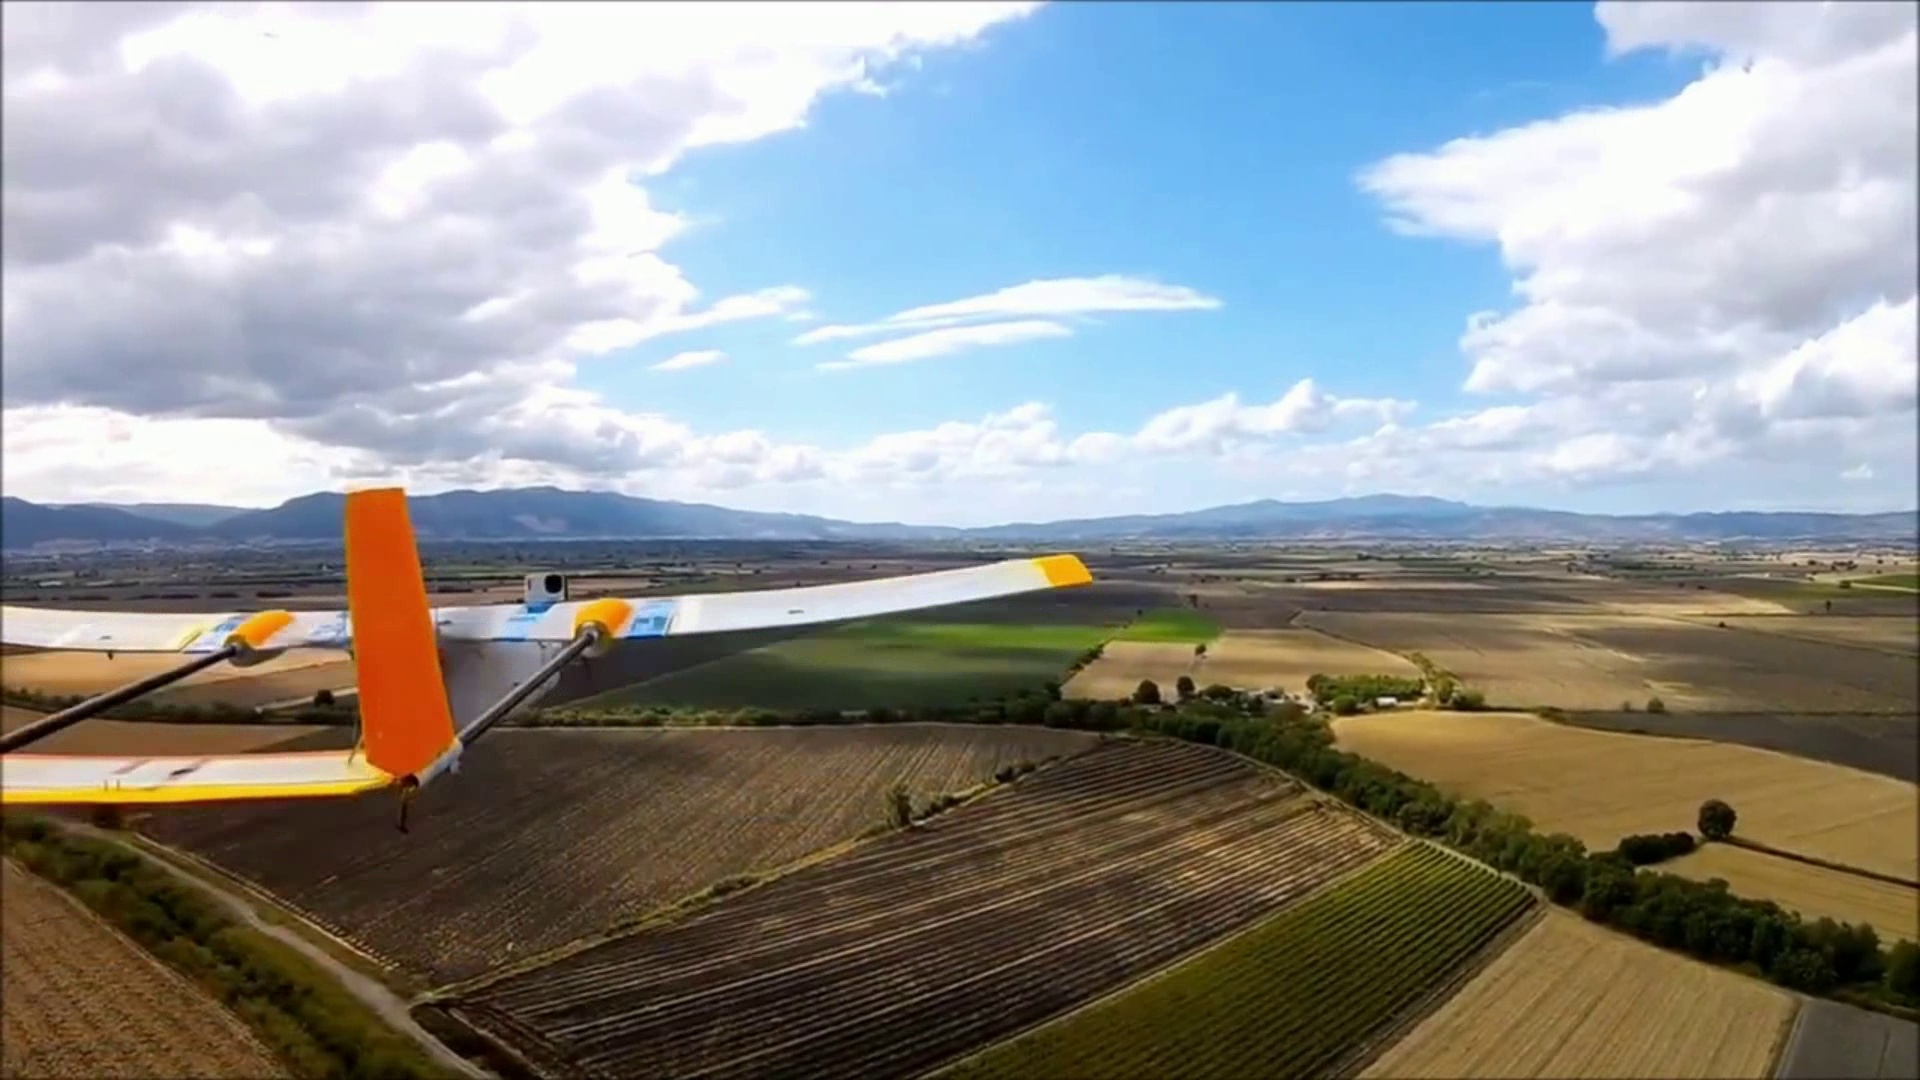airplane: (3, 480, 1102, 828)
